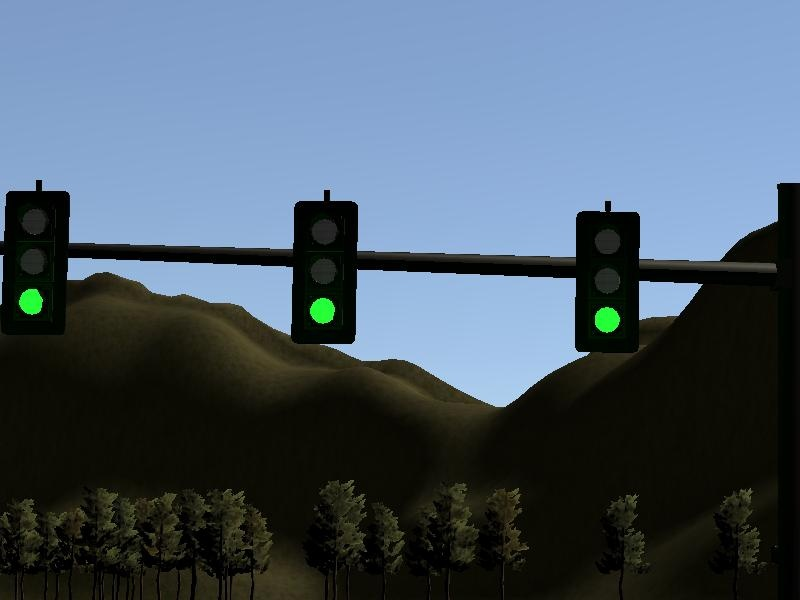GREEN: (290, 200, 357, 344), (574, 210, 641, 354), (2, 191, 69, 335)
